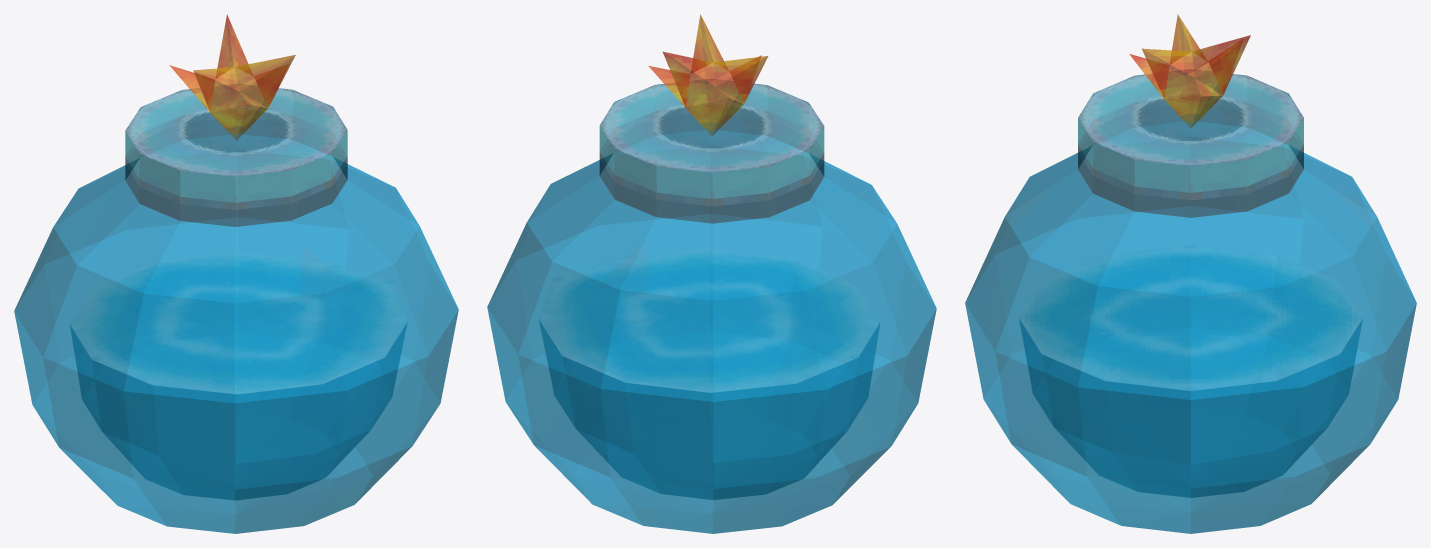
Rendered from AquaBomb.obj.
3 views of the same model, side by side, from view 1: azimuth 30°, elevation 25°; view 2: azimuth 150°, elevation 25°; view 3: azimuth 270°, elevation 25° (orthographic). The views are drawn at different scales.
Visible parts, largest first — view 1: Mesh.104_DrawCall_110; view 2: Mesh.104_DrawCall_110; view 3: Mesh.104_DrawCall_110.
Part boxes in pixels (x1,y1,x2,y2): Mesh.104_DrawCall_110: (14,14,458,533); Mesh.104_DrawCall_110: (487,14,936,533); Mesh.104_DrawCall_110: (965,14,1416,533).
Size of the model in its own units: 10.31 by 12.07 by 10.14.
Materials: 1 (1 with a texture image).
